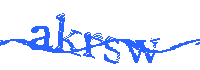a: (31, 25, 52, 51)
k: (54, 10, 81, 58)
r: (83, 31, 103, 58)
s: (104, 36, 120, 65)
w: (121, 36, 159, 64)
